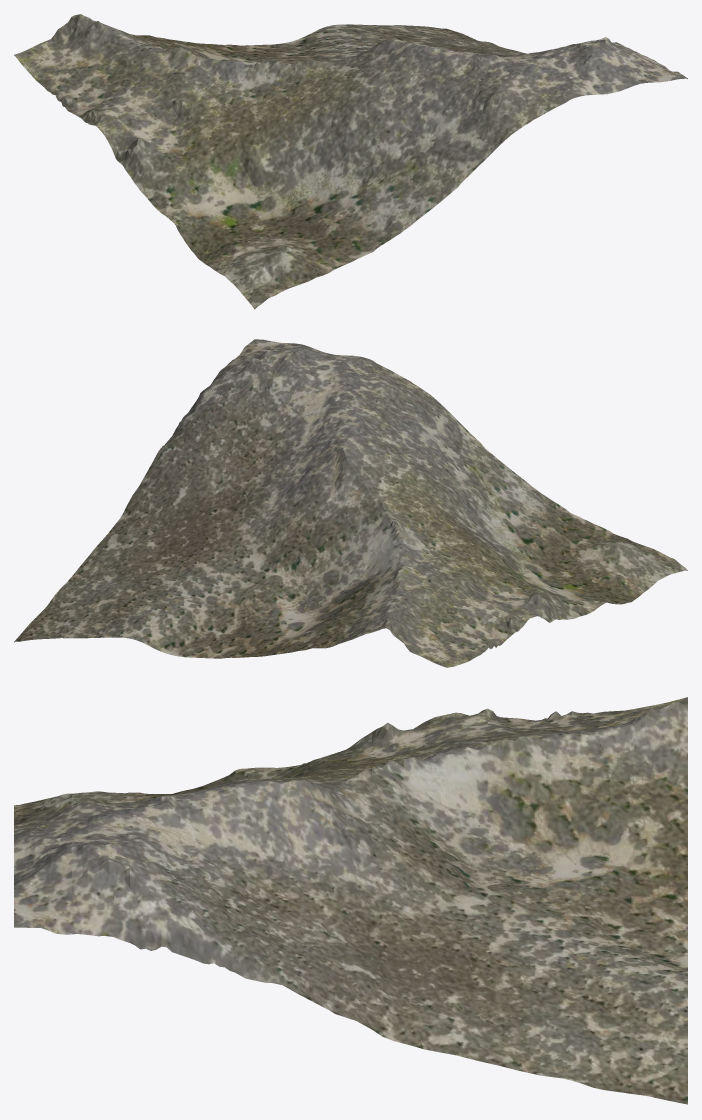
3 views of the same model, one above another, from view 1: azimuth 30°, elevation 25°; view 2: azimuth 150°, elevation 25°; view 3: azimuth 270°, elevation 25° (orthographic). The views are drawn at different scales.
Bounding box in the file's own units: 500 × 170 × 481.
Materials: 1 (1 with a texture image).
